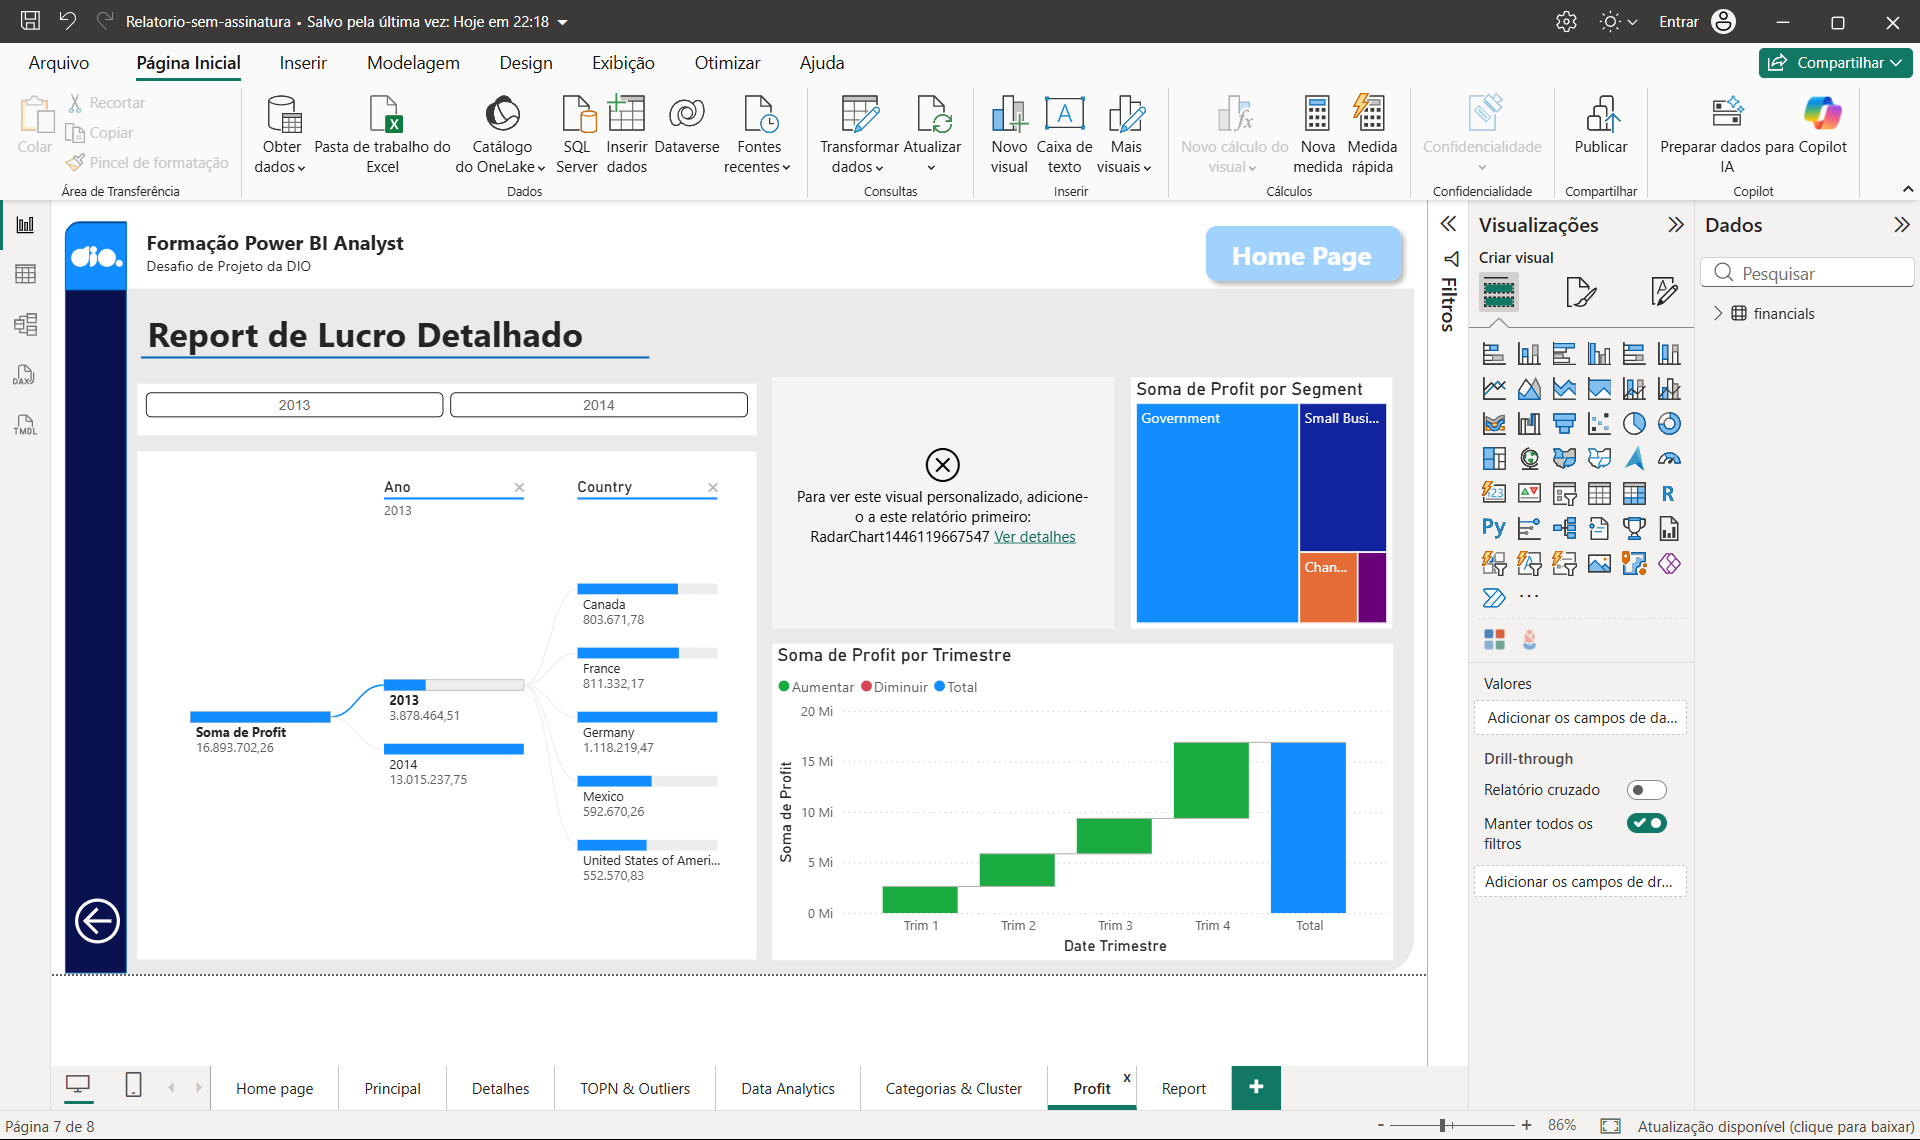

The dashboard page shown, as its layout file describes it:
{"tool":"powerbi","page":{"name":"Profit","canvas":[1280,720],"ordinal":6},"visuals":[{"type":"actionButton","title":"Home Page","box":[1064.7,14.6,199.6,69.2],"z":0,"group":"g2"},{"type":"shape","box":[42.6,20.7,1225.3,699.3],"z":0},{"type":"shape","box":[83.9,127.8,473,37.1],"z":0,"group":"g1"},{"type":"shape","box":[12.4,20.2,57.7,699.8],"z":1000},{"type":"textbox","box":[1076.9,29.4,173,42.6],"z":1000,"group":"g2"},{"type":"textbox","box":[85.3,97.6,470.2,52.2],"z":1000,"group":"g1"},{"type":"shape","box":[12.4,20.6,57.7,63.2],"z":2000},{"type":"image","box":[13.7,33,57.7,39.9],"z":3000},{"type":"shape","title":"Fundo do Título","box":[71.5,20.6,1198.9,61.9],"z":4000},{"type":"textbox","title":"Título do report","box":[83.9,22,378.1,63.2],"z":5000},{"type":"shape","box":[79.7,233.7,576.1,473],"z":6000},{"type":"decompositionTreeVisual","fields":{"Analyze":["Sum(financials.Profit)"],"ExplainBy":["financials.Date.Variation.Hierarquia de datas.Ano","financials.Country"]},"box":[99.8,242.2,536.3,456.5],"z":7000},{"type":"waterfallChart","fields":{"Category":["financials.Date.Variation.Hierarquia de datas.Trimestre"],"Y":["Sum(financials.Profit)"]},"box":[670.9,412.5,577.4,294.2],"z":8000},{"type":"ChicletSlicer1448559807354","fields":{"Category":["financials.Date.Variation.Hierarquia de datas.Ano"]},"box":[79.7,170.5,576.1,48.1],"z":9000},{"type":"RadarChart1446119667547","fields":{"Category":["financials.Product"],"Y":["Sum(financials.Profit)"]},"box":[670.9,165,317.6,233.7],"z":10000},{"type":"treemap","fields":{"Group":["financials.Segment"],"Values":["Sum(financials.Profit)"]},"box":[1005,165,243.4,233.7],"z":11000},{"type":"group","id":"g1","title":"Sales report","box":[83.9,97.6,473,67.4],"z":12000},{"type":"actionButton","box":[15.9,622.4,54,96.9],"z":13000},{"type":"group","id":"g2","title":"Botão home","box":[1064.7,14.6,199.6,69.2],"z":14000}]}

Visuals, with their boxes on the page's 1280x720 design canvas (x1, y1, x2, y2). These are canvas units, not pixel positions in the 1920x1140 screenshot, which may show the page scaled, cropped or inside an application window:
"Home Page" actionButton: box=[1065, 15, 1264, 84]
shape: box=[43, 21, 1268, 720]
shape: box=[84, 128, 557, 165]
shape: box=[12, 20, 70, 720]
textbox: box=[1077, 29, 1250, 72]
textbox: box=[85, 98, 556, 150]
shape: box=[12, 21, 70, 84]
image: box=[14, 33, 71, 73]
"Fundo do Título" shape: box=[72, 21, 1270, 82]
"Título do report" textbox: box=[84, 22, 462, 85]
shape: box=[80, 234, 656, 707]
decompositionTreeVisual - Sum(financials.Profit) x financials.Date.Variation.Hierarquia de datas.Ano: box=[100, 242, 636, 699]
waterfallChart - financials.Date.Variation.Hierarquia de datas.Trimestre x Sum(financials.Profit): box=[671, 412, 1248, 707]
ChicletSlicer1448559807354 - financials.Date.Variation.Hierarquia de datas.Ano: box=[80, 170, 656, 219]
RadarChart1446119667547 - financials.Product x Sum(financials.Profit): box=[671, 165, 988, 399]
treemap - financials.Segment x Sum(financials.Profit): box=[1005, 165, 1248, 399]
"Sales report" group: box=[84, 98, 557, 165]
actionButton: box=[16, 622, 70, 719]
"Botão home" group: box=[1065, 15, 1264, 84]
